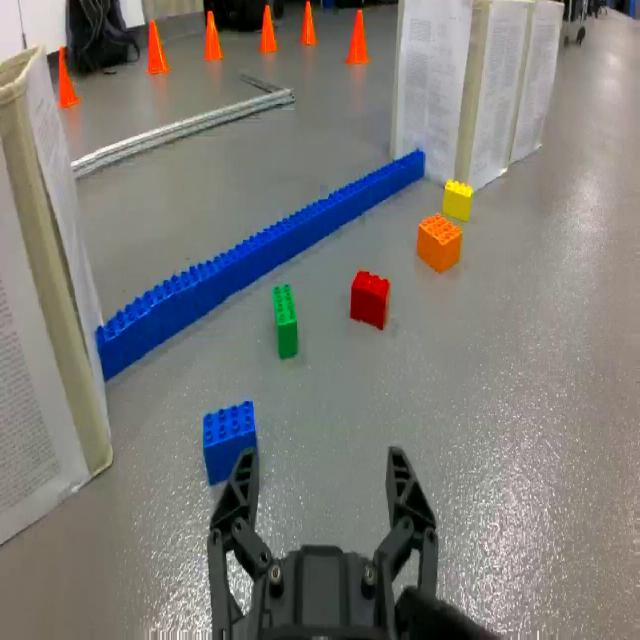block: (443, 176, 474, 224)
blue: (200, 395, 265, 488)
cone: (341, 6, 374, 72), (54, 46, 82, 112), (146, 17, 171, 79), (200, 7, 226, 65), (259, 3, 280, 56), (299, 1, 320, 48)
green: (268, 281, 302, 362)
metal barrier: (72, 69, 297, 183)
orange: (415, 208, 463, 276)
red goal: (349, 263, 393, 337)
river: (95, 147, 427, 383)
storage cube: (1, 47, 114, 548), (389, 0, 531, 197), (509, 0, 566, 164)
